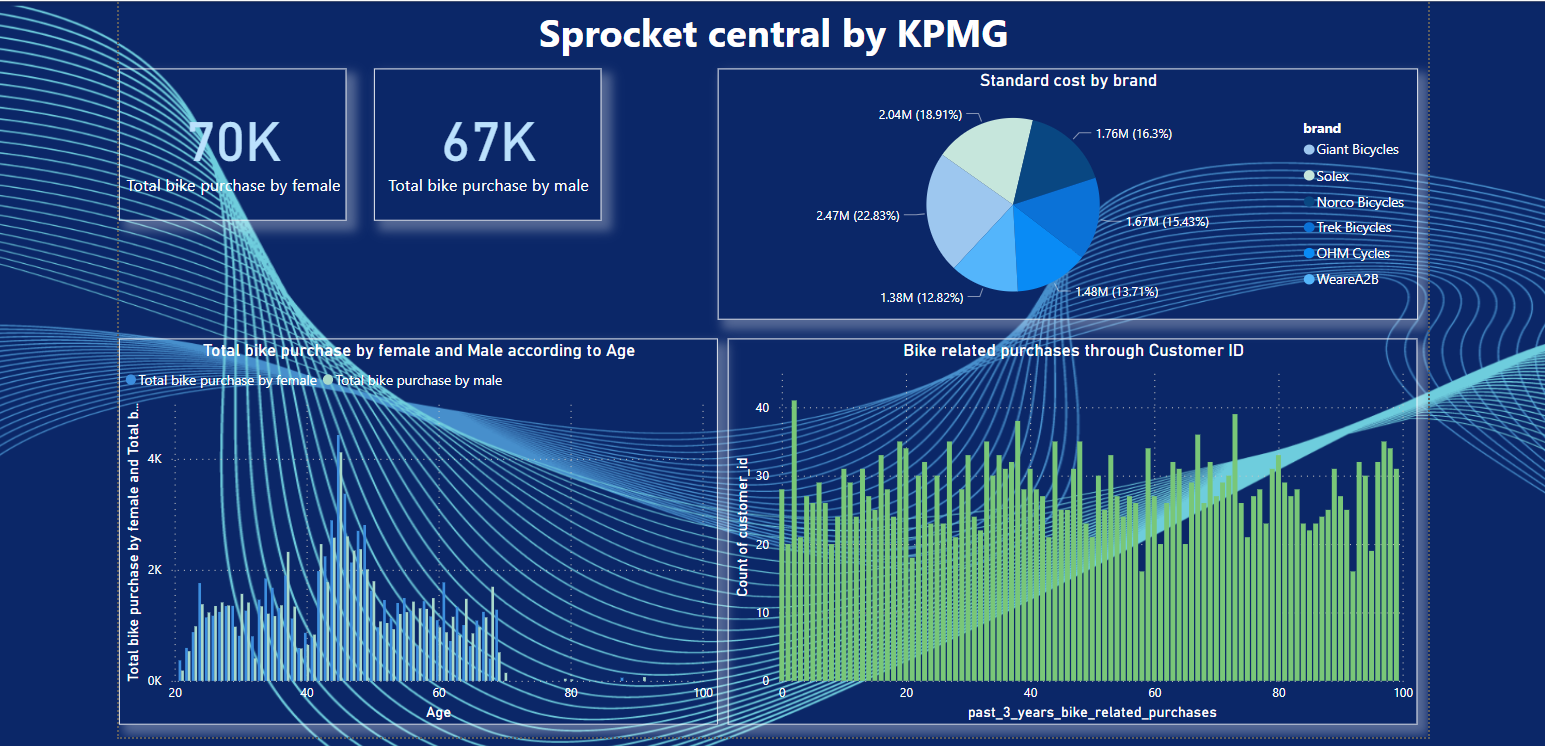

The dashboard page shown, as its layout file describes it:
{"tool":"powerbi","page":{"name":"Sprocket","canvas":[1280,720],"ordinal":0},"visuals":[{"type":"textbox","box":[0,0,1280.6,65.8],"z":0},{"type":"card","fields":{"Values":["CustomerAddress.Total bike purchase by female"]},"box":[0,66,222.5,149.1],"z":1000},{"type":"card","fields":{"Values":["CustomerAddress.Total bike purchase by male"]},"box":[249.4,66,222.5,149.1],"z":2000},{"type":"columnChart","title":"Bike related purchases through Customer ID","fields":{"Category":["CustomerDemographic.past_3_years_bike_related_purchases"],"Y":["CountNonNull(CustomerDemographic.customer_id)"]},"box":[595.3,330.1,674.8,377.7],"z":3000},{"type":"clusteredColumnChart","title":"Total bike purchase by female and Male according to Age","fields":{"Category":["CustomerDemographic.Age"],"Y":["CustomerAddress.Total bike purchase by female","CustomerAddress.Total bike purchase by male"]},"box":[0,330.1,585.5,377.7],"z":4000},{"type":"pieChart","title":"Standard cost by brand","fields":{"Category":["Transactions.brand"],"Y":["Sum(Transactions.standard_cost)"]},"box":[585.5,66,684.6,245.7],"z":5000}]}

Visuals, with their boxes on the page's 1280x720 design canvas (x1, y1, x2, y2). These are canvas units, not pixel positions in the 1545x746 screenshot, which may show the page scaled, cropped or inside an application window:
textbox: <bbox>0, 0, 1281, 66</bbox>
card - CustomerAddress.Total bike purchase by female: <bbox>0, 66, 222, 215</bbox>
card - CustomerAddress.Total bike purchase by male: <bbox>249, 66, 472, 215</bbox>
"Bike related purchases through Customer ID" columnChart: <bbox>595, 330, 1270, 708</bbox>
"Total bike purchase by female and Male according to Age" clusteredColumnChart: <bbox>0, 330, 586, 708</bbox>
"Standard cost by brand" pieChart: <bbox>586, 66, 1270, 312</bbox>
